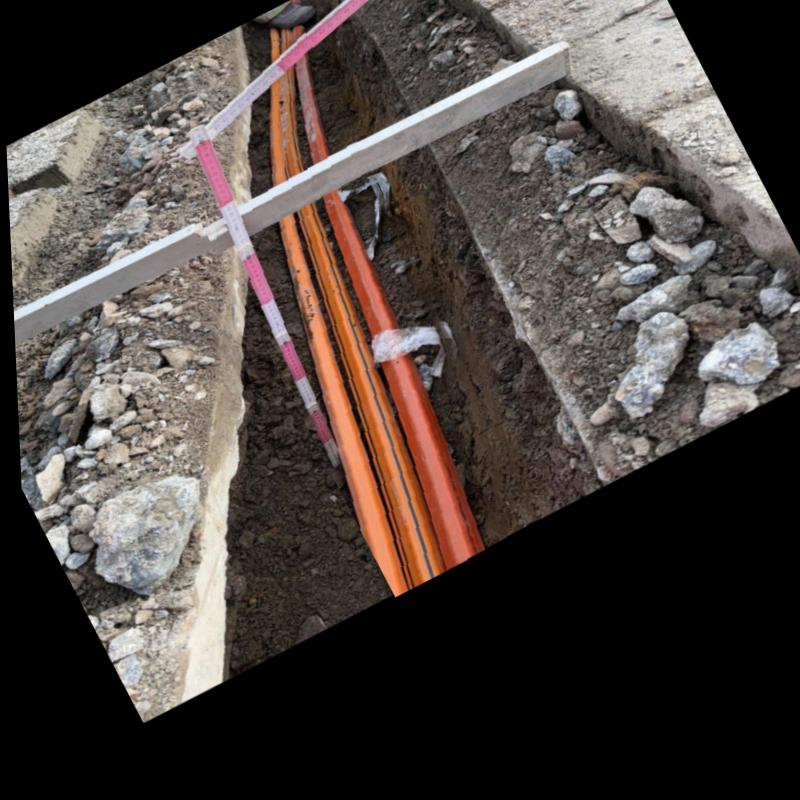Orang-Speednetrohrchen: (269, 29, 483, 600)
